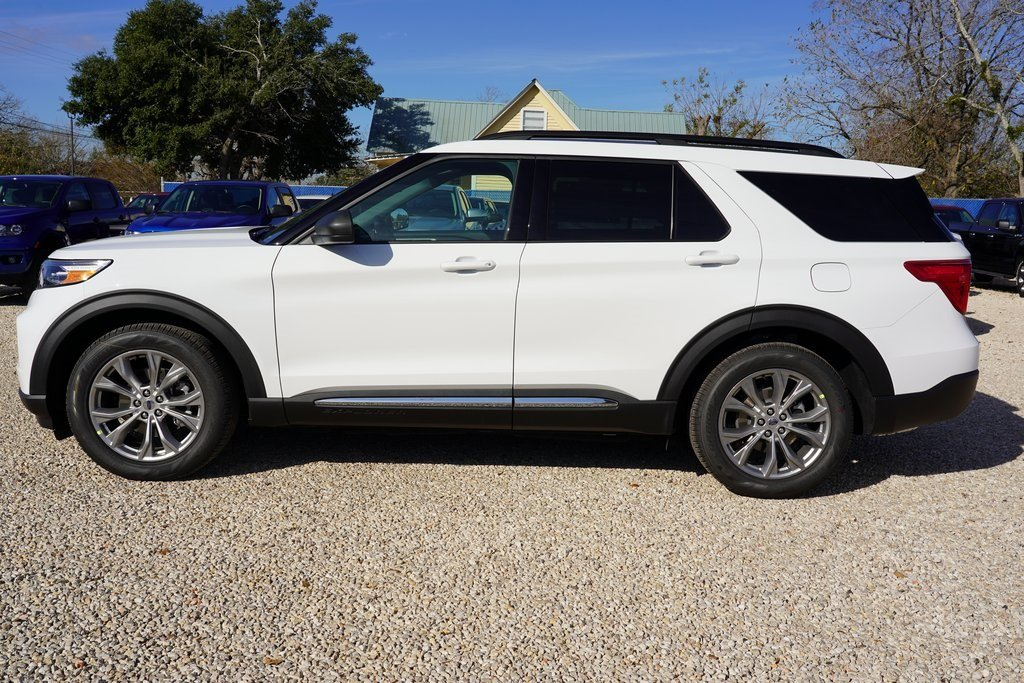Ford Explorer: (14, 127, 983, 504)
